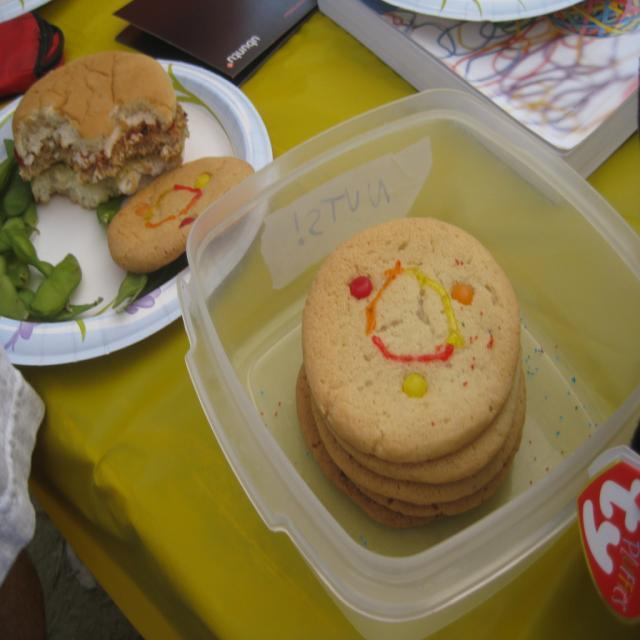Pancake: (303, 216, 521, 464), (298, 362, 521, 534), (105, 157, 260, 276)
